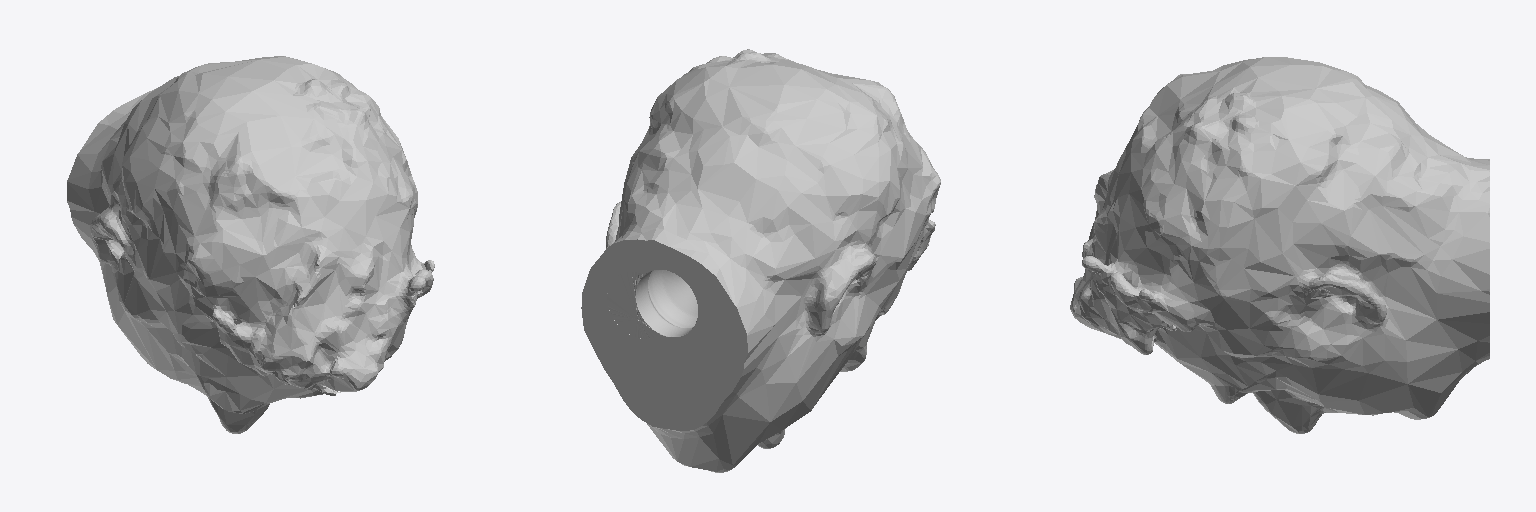
File: 38157-face_Clustering_50pct.obj
The picture shows the model from 3 angles: view 1: azimuth 30°, elevation 25°; view 2: azimuth 150°, elevation 25°; view 3: azimuth 270°, elevation 25°; orthographic projection.
Size of the model in its own units: 0.7038 by 0.957 by 1.